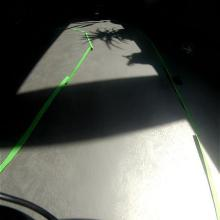right: (181, 41, 194, 58)
